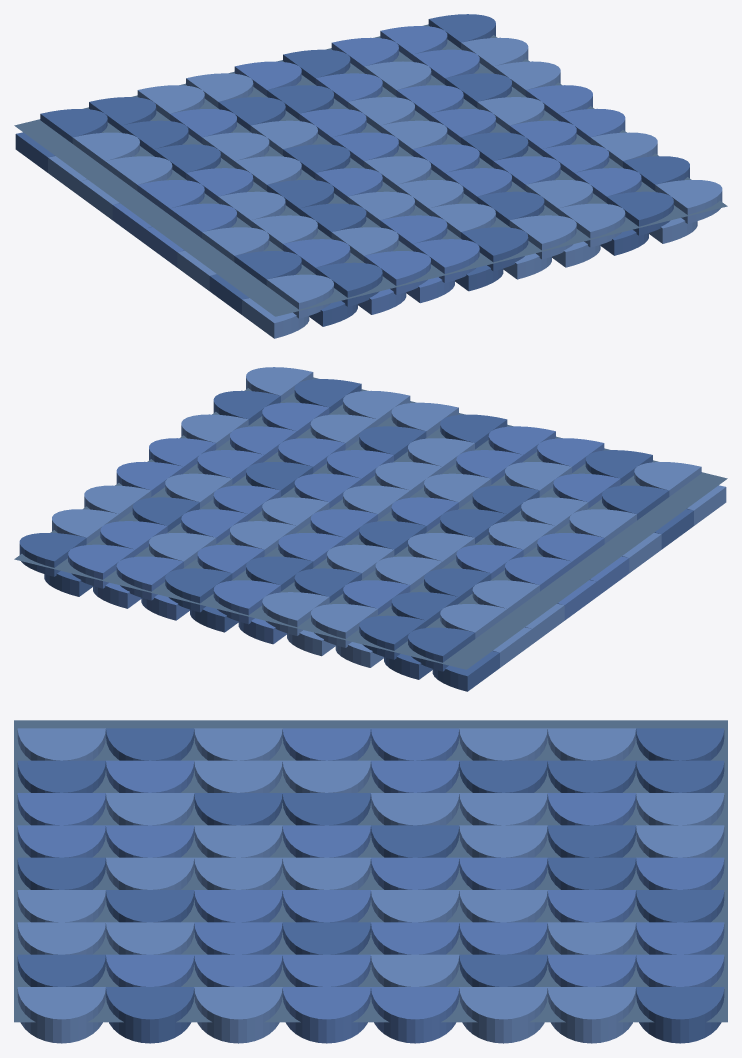
Rendered from Toit.glb.
The picture shows the model from 3 angles, top to bottom: view 1: azimuth 30°, elevation 25°; view 2: azimuth 150°, elevation 25°; view 3: azimuth 270°, elevation 25°; orthographic projection. The views are drawn at different scales.
Parts seen in each view (by area): view 1: Circle.001; view 2: Circle.001; view 3: Circle.001.
Boxes of the visible parts, x1,y1,x2,y2 form: Circle.001: (14, 14, 727, 338); Circle.001: (14, 367, 727, 691); Circle.001: (14, 720, 727, 1043).
Size of the model in its own units: 2.04 by 0.1252 by 2.
